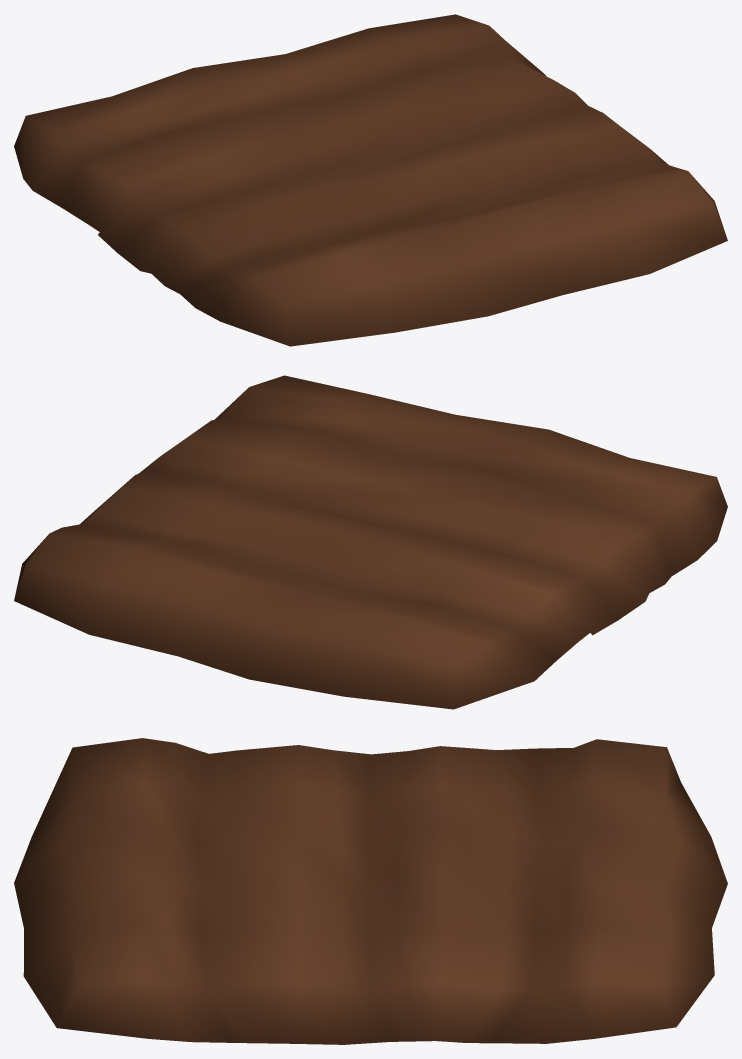
The model's file is SM_PlantSoil_B.fbx.
The picture shows the model from 3 angles, top to bottom: view 1: azimuth 30°, elevation 25°; view 2: azimuth 150°, elevation 25°; view 3: azimuth 270°, elevation 25°; orthographic projection. The views are drawn at different scales.
Visible parts, largest first — view 1: SM_PlantSoil_B; view 2: SM_PlantSoil_B; view 3: SM_PlantSoil_B.
Part boxes in pixels (bbox=[...]): SM_PlantSoil_B: bbox=[14, 14, 727, 346]; SM_PlantSoil_B: bbox=[14, 375, 727, 709]; SM_PlantSoil_B: bbox=[14, 738, 727, 1044].
Size of the model in its own units: 96.14 by 9.1 by 103.
